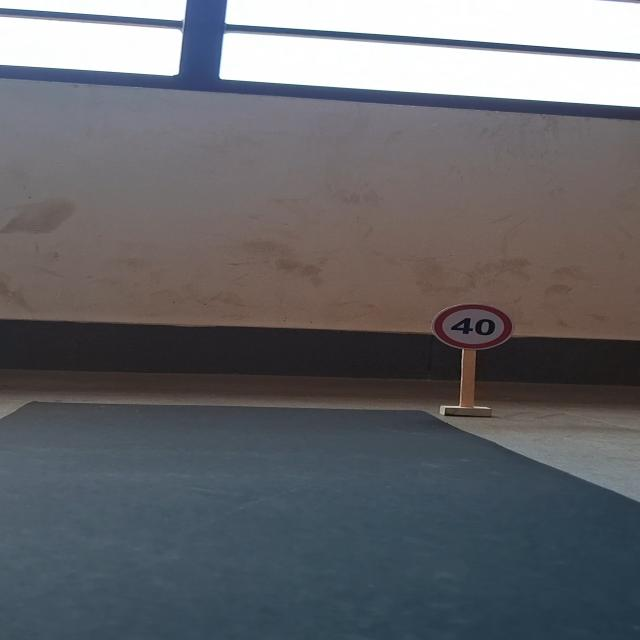Speed40: (427, 299, 519, 351)
